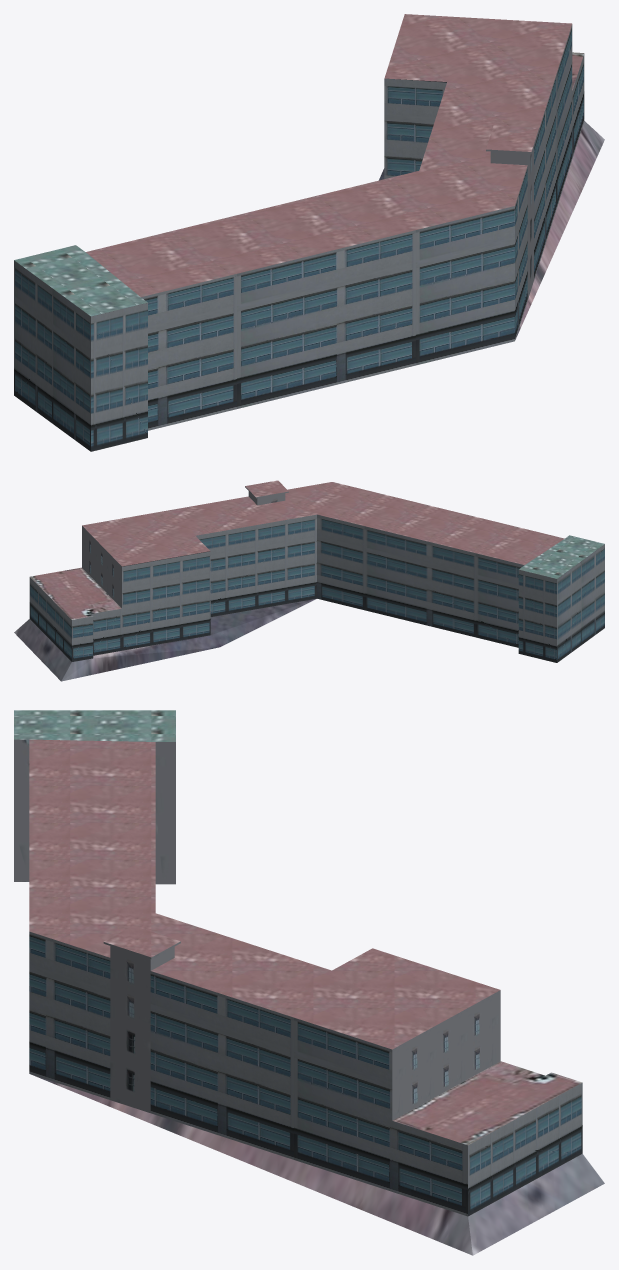
Rendered from building_106.fbx.
The picture shows the model from 3 angles, top to bottom: view 1: azimuth 30°, elevation 25°; view 2: azimuth 150°, elevation 25°; view 3: azimuth 270°, elevation 25°; orthographic projection. The views are drawn at different scales.
Visible parts, largest first — view 1: skp204D1; view 2: skp204D1; view 3: skp204D1.
Part boxes in pixels (bbox=[...]): skp204D1: bbox=[14, 14, 604, 451]; skp204D1: bbox=[14, 480, 604, 681]; skp204D1: bbox=[14, 710, 604, 1255].
Size of the model in its own units: 3566 by 823 by 2370.
